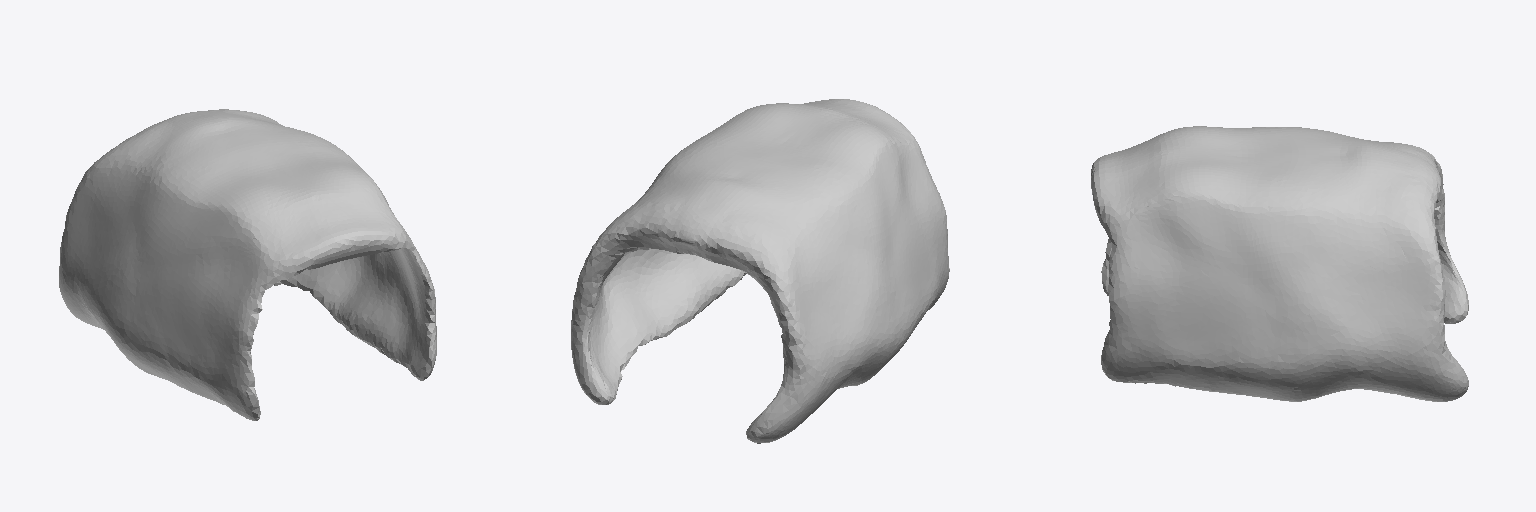
File: rockfishbowl.obj
3 renders of one model, left to right at view 1: azimuth 30°, elevation 25°; view 2: azimuth 150°, elevation 25°; view 3: azimuth 270°, elevation 25°, orthographic.
Parts seen in each view (by area): view 1: ZBrush_defualt_group; view 2: ZBrush_defualt_group; view 3: ZBrush_defualt_group.
Part boxes in pixels (x1,y1,x2,y2): ZBrush_defualt_group: (59,109,436,420); ZBrush_defualt_group: (571,99,949,443); ZBrush_defualt_group: (1091,126,1468,401).
Size of the model in its own units: 161 by 120 by 196.